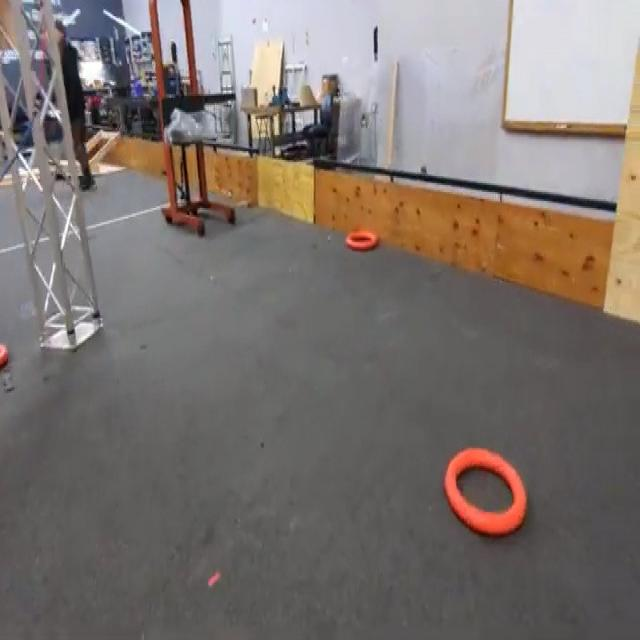note: (446, 451, 530, 536), (344, 230, 378, 254)
